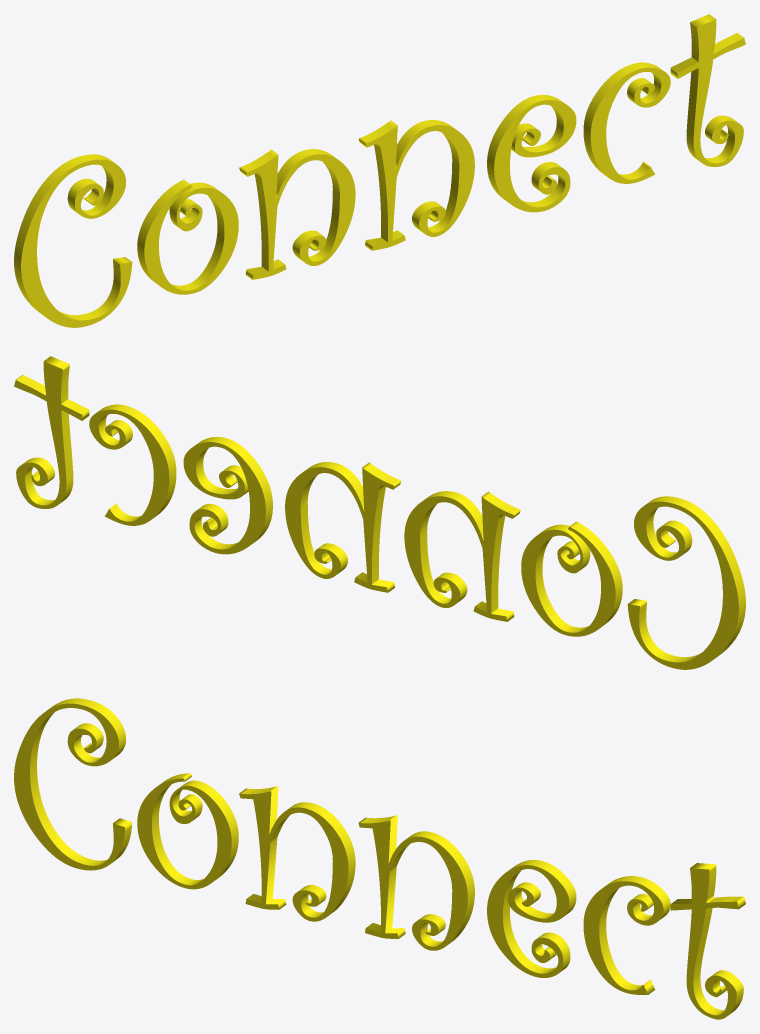
Rendered from connect3.glb.
3 renders of one model, top to bottom at view 1: azimuth 30°, elevation 25°; view 2: azimuth 150°, elevation 25°; view 3: azimuth 330°, elevation 25°, orthographic.
Parts seen in each view (by area): view 1: Text; view 2: Text; view 3: Text.
Boxes of the visible parts, bbox=[...] form: Text: bbox=[14, 14, 745, 327]; Text: bbox=[14, 356, 745, 669]; Text: bbox=[14, 698, 745, 1019].
Size of the model in its own units: 3.55 by 0.7707 by 0.06.
